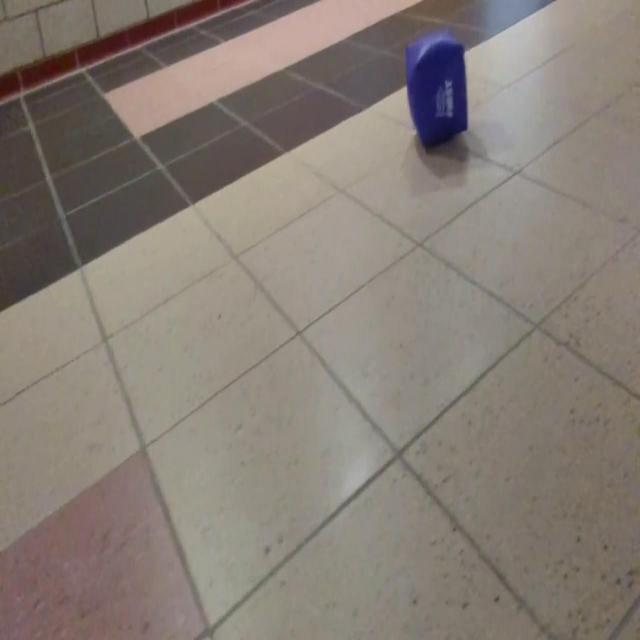frc_cube: (404, 32, 466, 148)
